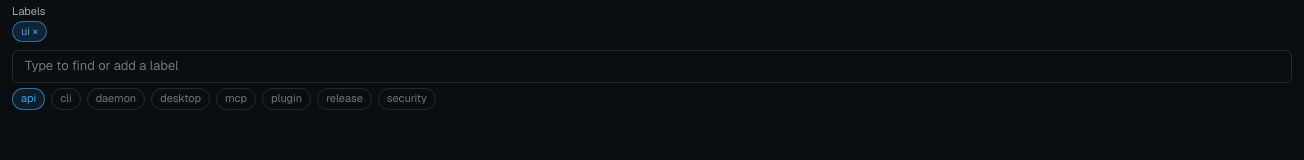
Scenario: LabelPicker › does not offer to create a label already on the task
Type "UI" into the dropdown labelled "find or add a label" at (652, 67), box [12,50,1292,83]
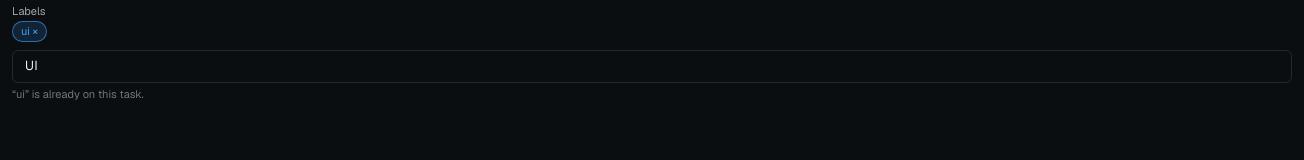
Check: the option is gone
Check: the text "“ui” is already on this task." is shown, box [12,87,144,101]
